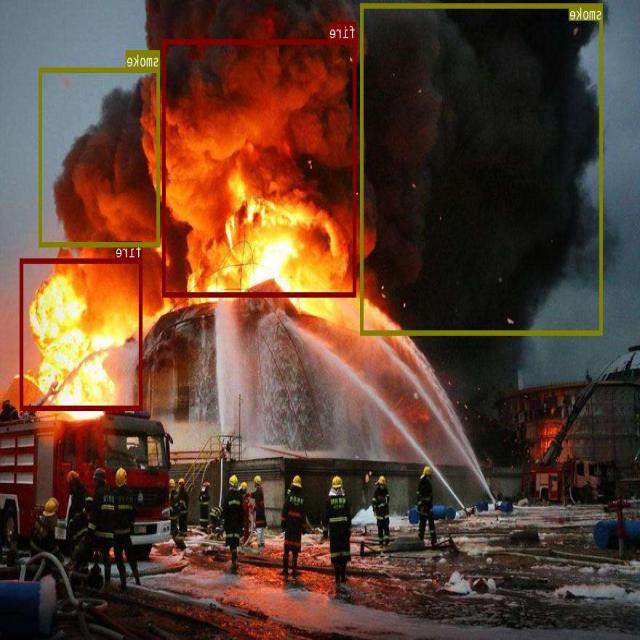fire: (163, 39, 357, 296), (21, 258, 142, 409)
smoke: (362, 2, 604, 334), (40, 67, 160, 246)
